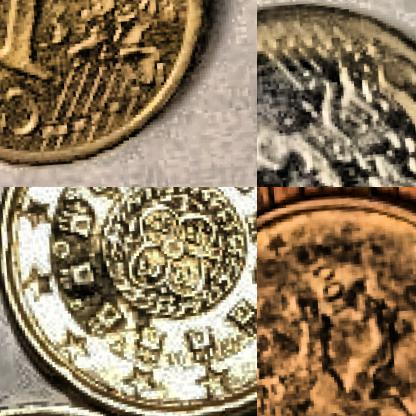coin: (0, 187, 256, 415), (0, 0, 222, 179), (257, 187, 415, 415), (257, 0, 415, 186)
